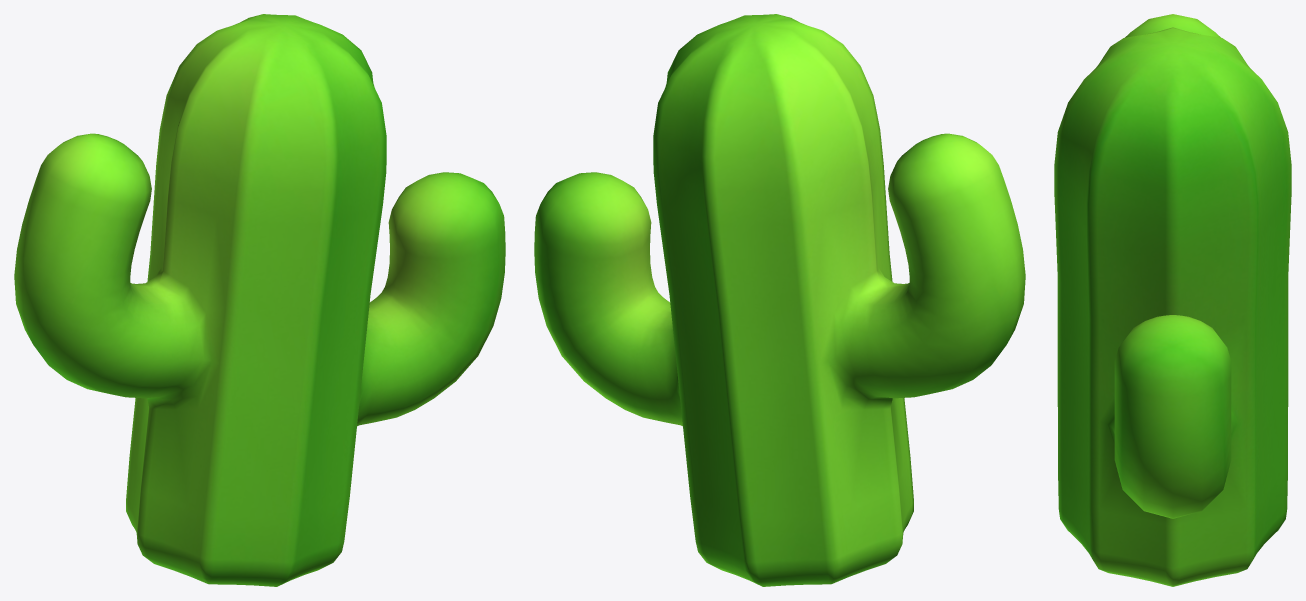
Rendered from zhiwu.FBX.
3 views of the same model, side by side, from view 1: azimuth 30°, elevation 25°; view 2: azimuth 150°, elevation 25°; view 3: azimuth 270°, elevation 25° (orthographic).
Visible parts, largest first — view 1: zhiwu; view 2: zhiwu; view 3: zhiwu.
Boxes of the visible parts, x1,y1,x2,y2 form: zhiwu: (14,14,505,586); zhiwu: (534,14,1025,586); zhiwu: (1054,14,1291,586).
Size of the model in its own units: 53.73 by 56.74 by 23.02.
